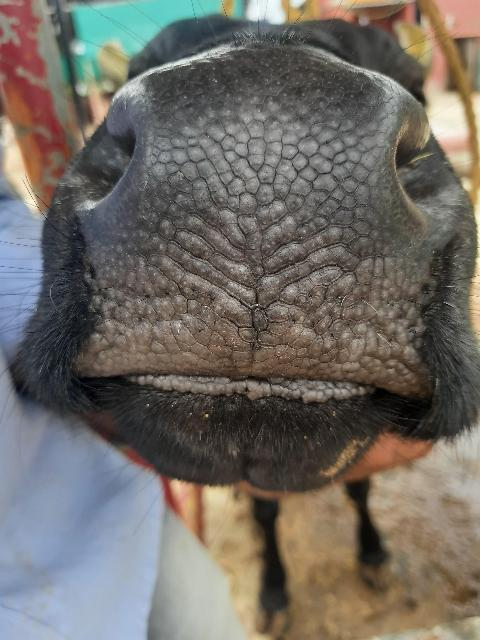Muzzle: (105, 88, 427, 386)
